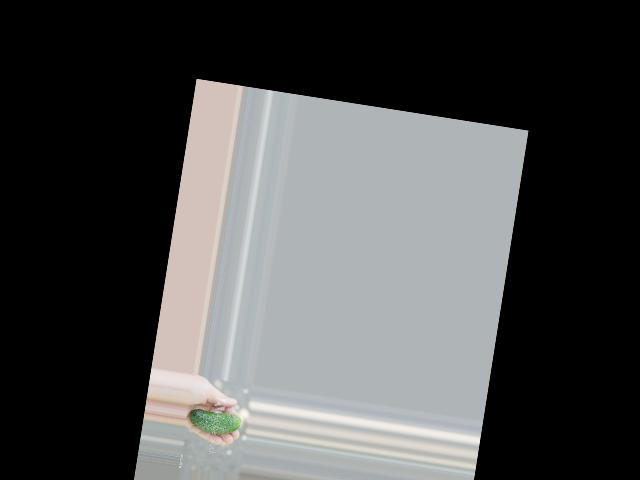cucumber: (187, 408, 241, 438)
